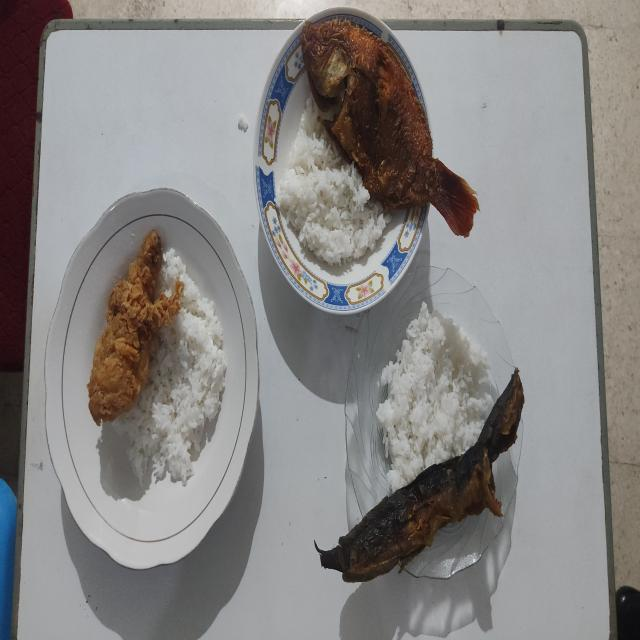ikan_mujair: (302, 16, 478, 237)
nasi_putih: (112, 249, 226, 486), (376, 302, 494, 492), (276, 100, 389, 266)
